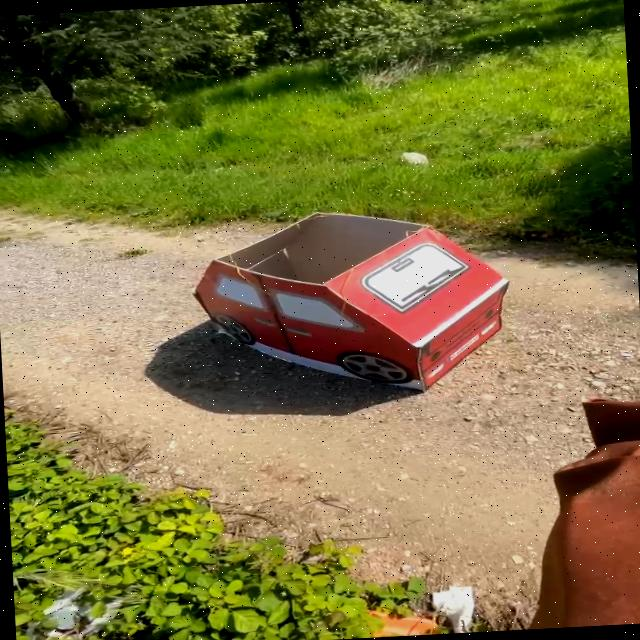red_car: (166, 190, 560, 416)
